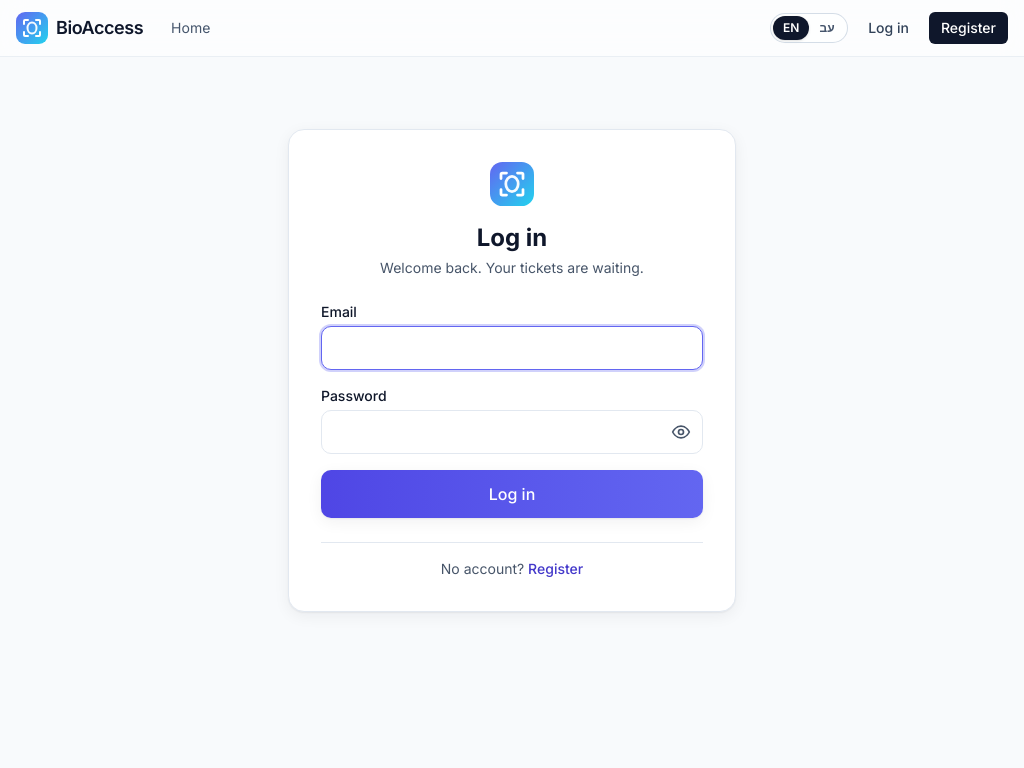
login › a USER lands on /events
Type "dana@example.com" into the field labelled "Email" at (512, 348), box [321,326,703,370]
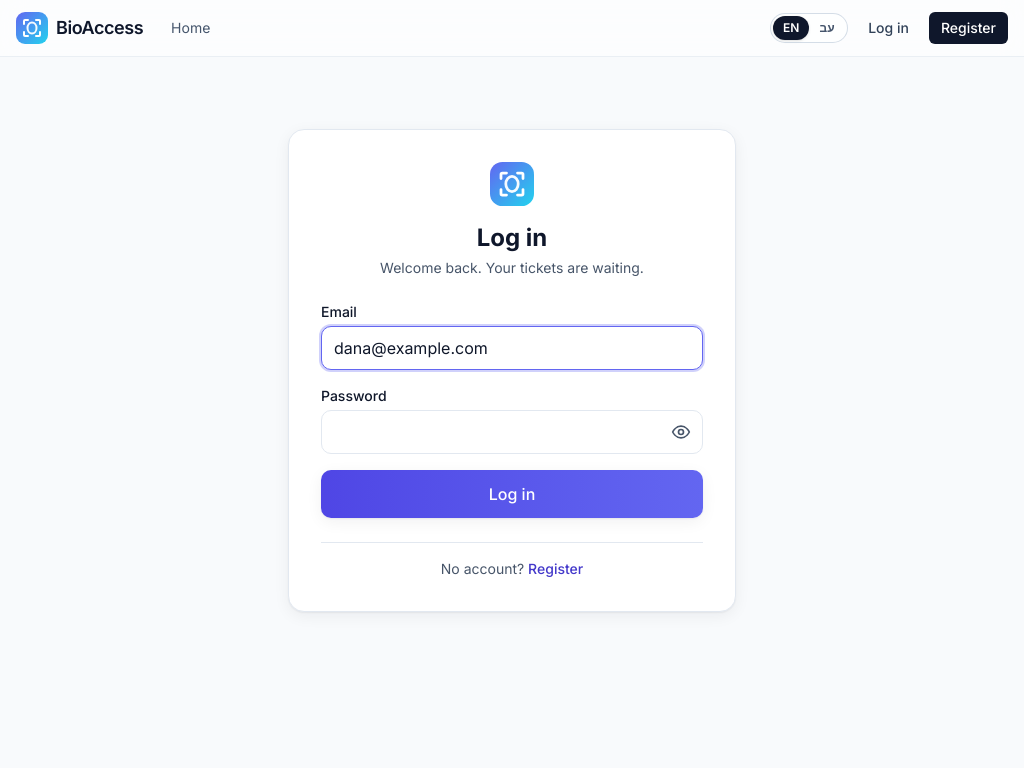
Type "password123" into the password field labelled "Password" at (512, 432), box [321,410,703,454]
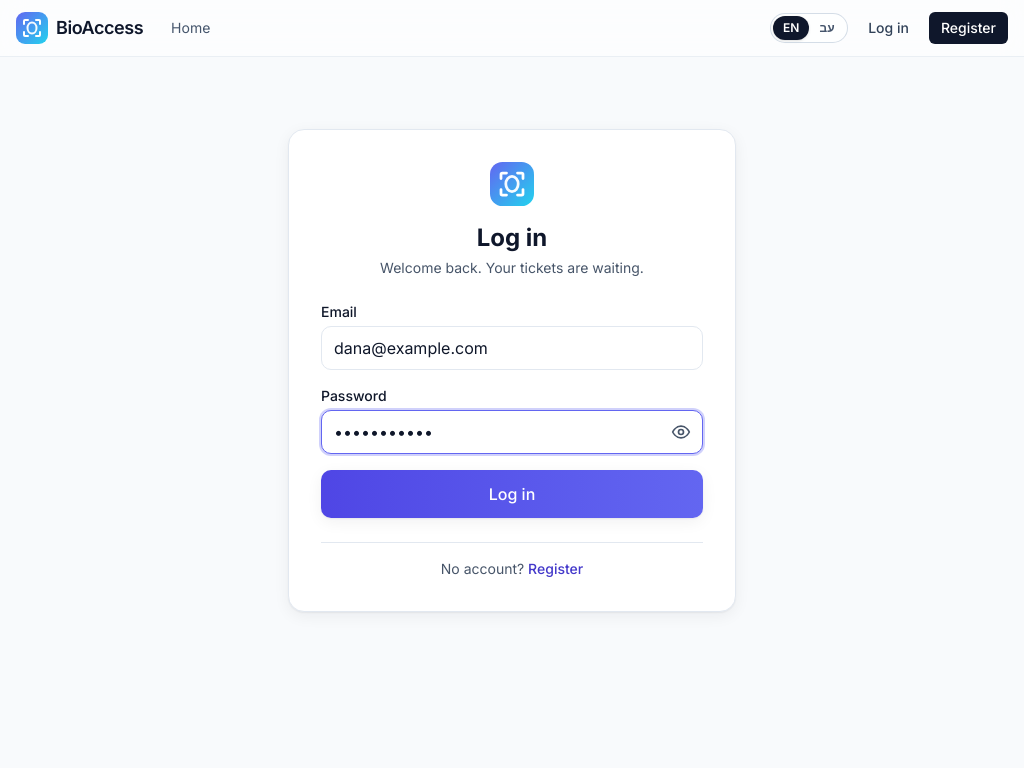
Click the button "Log in" at (512, 494), box [321,470,703,518]
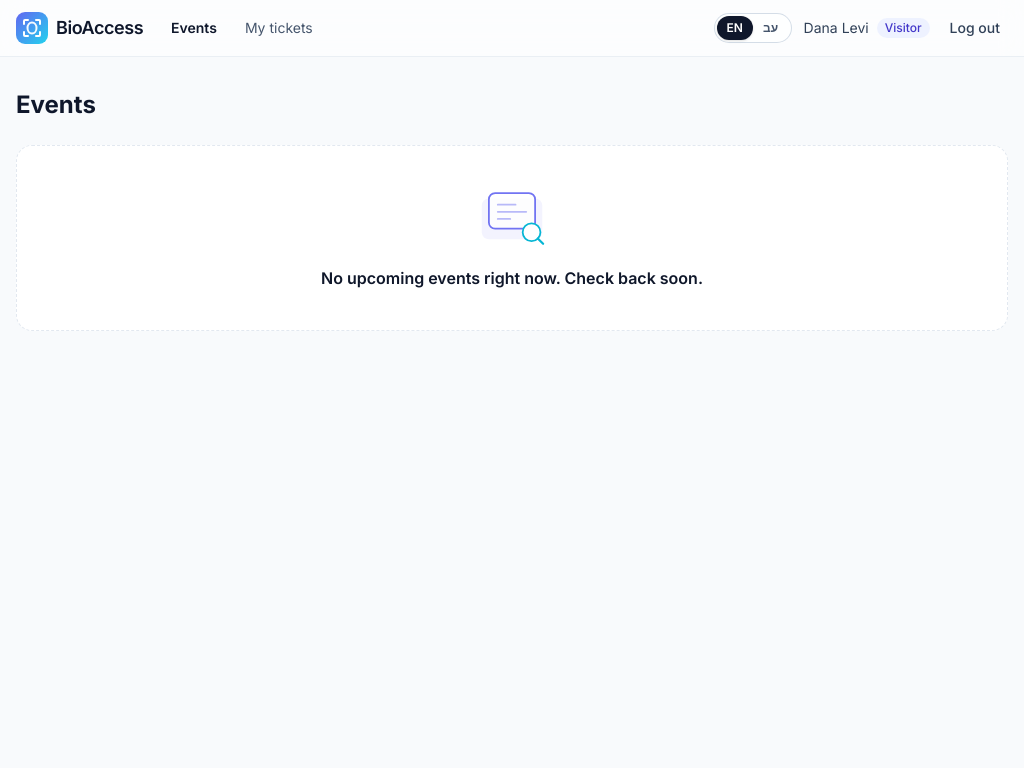
Expected: the heading "Events" is shown, [16,90,96,119]
Expected: the text "Dana Levi" is shown, [804,18,869,38]
